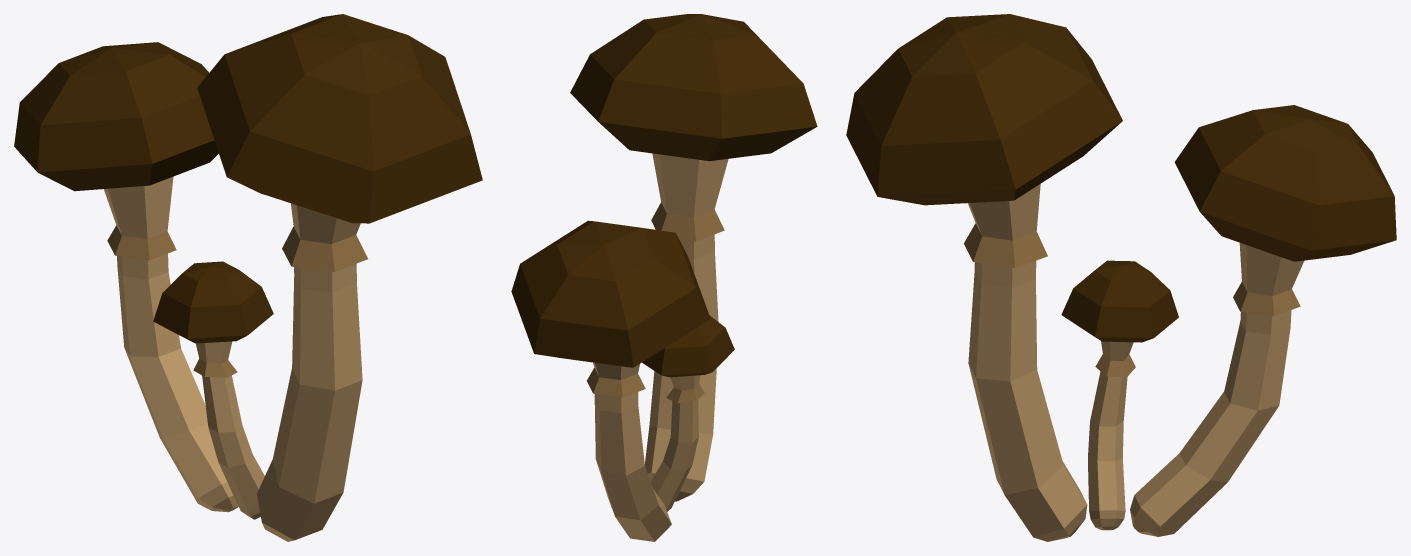
Rendered from Mushroom(2).fbx.
3 renders of one model, left to right at view 1: azimuth 30°, elevation 25°; view 2: azimuth 150°, elevation 25°; view 3: azimuth 270°, elevation 25°, orthographic. The views are drawn at different scales.
Parts seen in each view (by area): view 1: Mushroom(2); view 2: Mushroom(2); view 3: Mushroom(2).
Part boxes in pixels (left/top/right/bottom): Mushroom(2): left=14, top=14, right=482, bottom=541; Mushroom(2): left=511, top=14, right=817, bottom=541; Mushroom(2): left=846, top=14, right=1396, bottom=541.
Bounding box in the file's own units: 0.1758 × 0.3069 × 0.2955.
